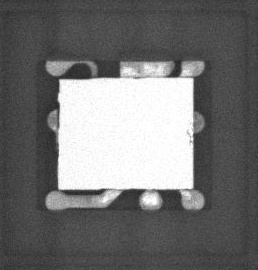DIE_INK: (187, 128, 192, 145)
